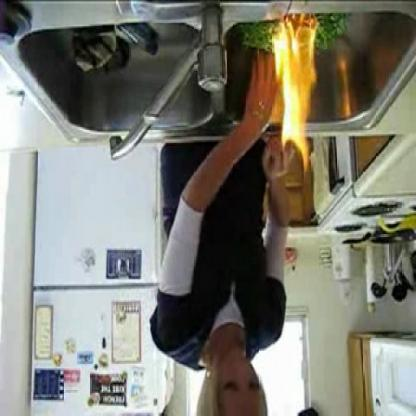Fire: (277, 25, 311, 154)
